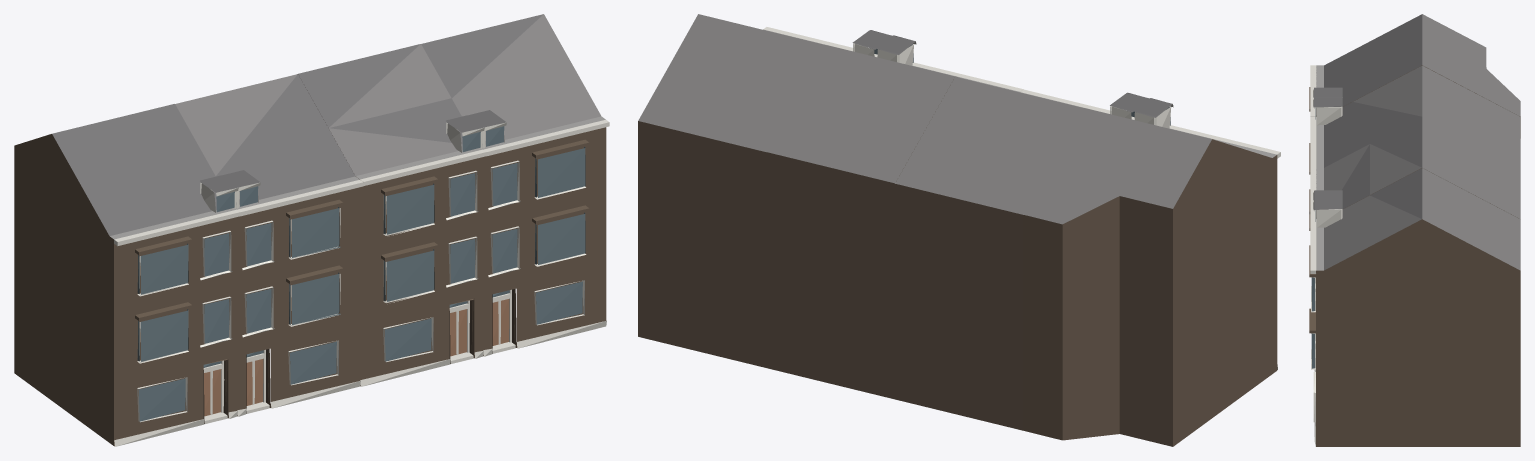
Rendered from chunk-face-treslong-5-19-a.lod2.glb.
3 renders of one model, left to right at view 1: azimuth 30°, elevation 25°; view 2: azimuth 150°, elevation 25°; view 3: azimuth 270°, elevation 25°, orthographic. The views are drawn at different scales.
Parts seen in each view (by area): view 1: lod2; view 2: lod2; view 3: lod2.
Part boxes in pixels (x1,y1,x2,y2): lod2: (14, 14, 609, 446); lod2: (638, 14, 1280, 446); lod2: (1309, 14, 1520, 446).
Size of the model in its own units: 24.8 by 12.87 by 10.81.
